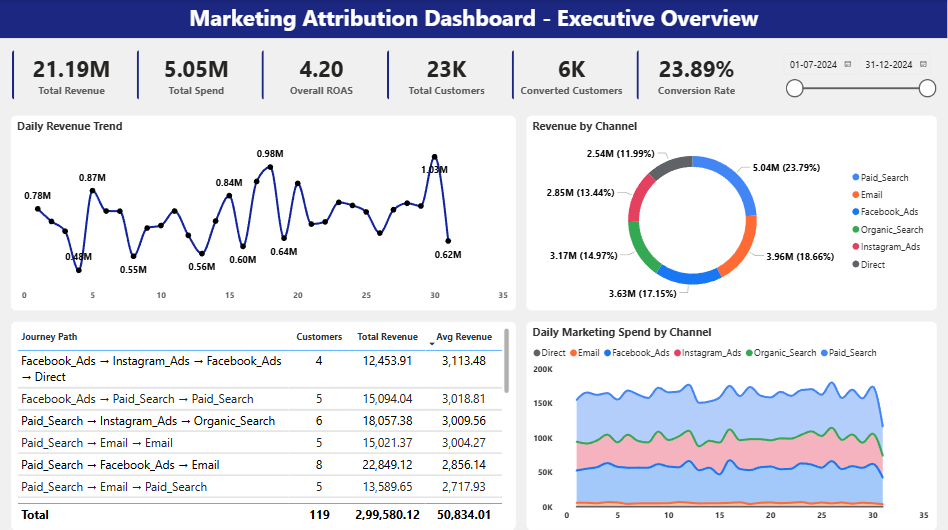

The page's visual inventory and layout, read from the dashboard file:
{"tool":"powerbi","page":{"name":"Executive Overview","canvas":[1380,780],"ordinal":0},"visuals":[{"type":"textbox","box":[0,0,1379.2,57.3],"z":0},{"type":"cardVisual","fields":{"Data":["Sum(channel_summary.total_revenue)","Sum(channel_summary.total_spend)","channel_summary.Overall ROAS","Sum(channel_summary.total_customers)","Sum(channel_summary.converted_customers)","channel_summary.Conversion Rate"]},"box":[0,57.1,1121.8,106.3],"z":1000},{"type":"lineChart","title":"Daily Revenue Trend","fields":{"Category":["daily_trends.date.Variation.Date Hierarchy.Year","daily_trends.date.Variation.Date Hierarchy.Quarter","daily_trends.date.Variation.Date Hierarchy.Month","daily_trends.date.Variation.Date Hierarchy.Day"],"Y":["Sum(daily_trends.revenue)"]},"box":[15.2,170.3,735.1,283.2],"z":2000},{"type":"donutChart","title":"Revenue by Channel","fields":{"Category":["channel_summary.channel"],"Y":["Sum(channel_summary.total_revenue)"]},"box":[767.1,170.3,596.9,283.2],"z":3000},{"type":"stackedAreaChart","title":"Daily Marketing Spend by Channel","fields":{"Category":["daily_trends.date.Variation.Date Hierarchy.Year","daily_trends.date.Variation.Date Hierarchy.Quarter","daily_trends.date.Variation.Date Hierarchy.Month","daily_trends.date.Variation.Date Hierarchy.Day"],"Y":["Sum(daily_trends.spend)"],"Series":["daily_trends.channel"]},"box":[767.1,470.4,596.9,303.5],"z":4000},{"type":"tableEx","fields":{"Values":["top_conversion_paths.journey_path","Sum(top_conversion_paths.num_customers)","Sum(top_conversion_paths.total_revenue)","Sum(top_conversion_paths.avg_revenue)"]},"box":[15.2,470.4,735.1,303.5],"z":5000},{"type":"slicer","fields":{"Values":["daily_trends.date"]},"box":[1128.1,69.8,242.8,82.5],"z":6000}]}

Visuals, with their boxes in screenshot pixels (x1, y1, x2, y2), scaled from the page's 1380x780 canvas onto the 948x530 screenshot:
textbox: bbox(0, 0, 947, 39)
cardVisual - Sum(channel_summary.total_revenue) x Sum(channel_summary.total_spend): bbox(0, 39, 771, 111)
"Daily Revenue Trend" lineChart: bbox(10, 116, 515, 308)
"Revenue by Channel" donutChart: bbox(527, 116, 937, 308)
"Daily Marketing Spend by Channel" stackedAreaChart: bbox(527, 320, 937, 526)
tableEx - top_conversion_paths.journey_path x Sum(top_conversion_paths.num_customers): bbox(10, 320, 515, 526)
slicer - daily_trends.date: bbox(775, 47, 942, 103)
